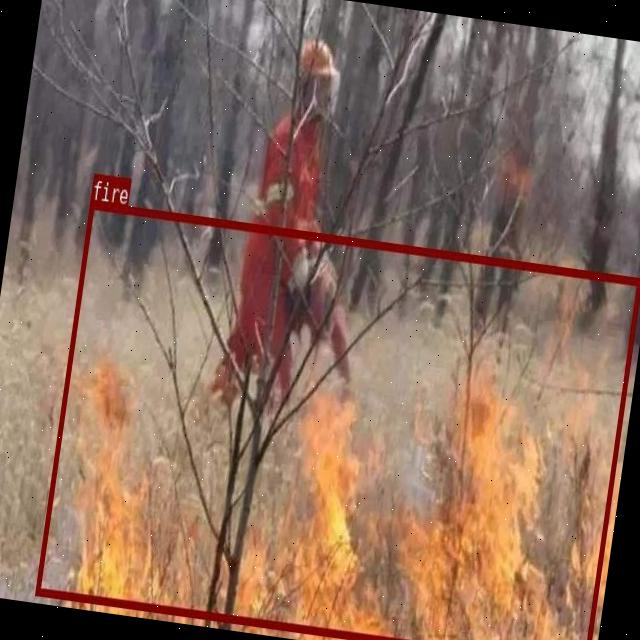fire: (35, 200, 640, 640)
